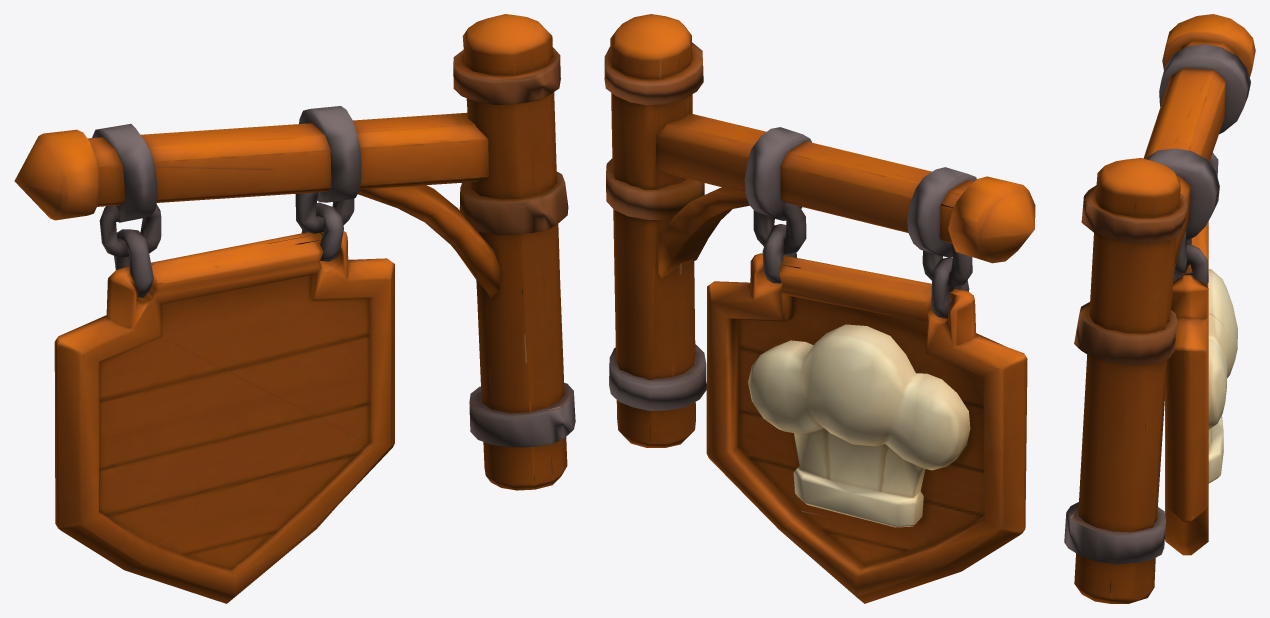
Rendered from sign_hat.glb.
3 renders of one model, left to right at view 1: azimuth 30°, elevation 25°; view 2: azimuth 150°, elevation 25°; view 3: azimuth 270°, elevation 25°, orthographic. The views are drawn at different scales.
Parts seen in each view (by area): view 1: geometry_0; view 2: geometry_0; view 3: geometry_0.
Part boxes in pixels (x1=…): geometry_0: x1=14, y1=14, x2=575, y2=603; geometry_0: x1=604, y1=14, x2=1035, y2=603; geometry_0: x1=1064, y1=14, x2=1255, y2=603.
Size of the model in its own units: 0.9253 by 0.9521 by 0.3232.
1 material, 1 textured.
